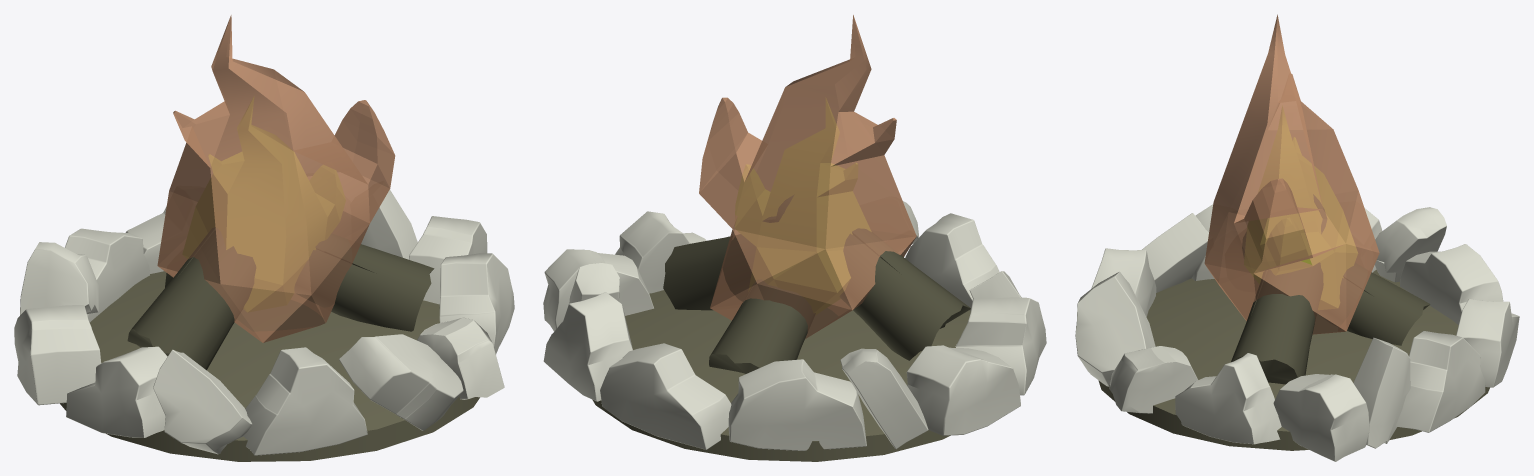
The model's file is PitFire.fbx.
3 renders of one model, left to right at view 1: azimuth 30°, elevation 25°; view 2: azimuth 150°, elevation 25°; view 3: azimuth 270°, elevation 25°, orthographic. The views are drawn at different scales.
Visible parts, largest first — view 1: Fire1, pasted__pCylinder5, Fire, pasted__Stump5, pasted__pCube12, pasted__Stump4, pasted__pCube21, pasted__pCube10, pasted__pCube11, pasted__pCube13, pasted__pCube18, pasted__pCube9 (+5 smaller); view 2: Fire1, Fire, pasted__pCylinder5, pasted__pCube6, pasted__pCube8, pasted__Stump5, pasted__pCube10, pasted__Stump3, pasted__pCube14, pasted__pCube11, pasted__Stump4, pasted__pCube12 (+5 smaller); view 3: Fire1, pasted__pCylinder5, Fire, pasted__Stump4, pasted__pCube18, pasted__pCube14, pasted__pCube16, pasted__pCube21, pasted__pCube6, pasted__Stump3, pasted__pCube20, pasted__pCube17 (+5 smaller).
Part boxes in pixels (left/top/right/bottom): Fire1: left=157, top=15, right=395, bottom=342; pasted__pCylinder5: left=60, top=271, right=479, bottom=461; Fire: left=183, top=97, right=345, bottom=311; pasted__Stump5: left=127, top=228, right=255, bottom=370; pasted__pCube12: left=244, top=347, right=367, bottom=455; pasted__Stump4: left=295, top=234, right=434, bottom=331; pasted__pCube21: left=339, top=334, right=463, bottom=430; pasted__pCube10: left=14, top=305, right=101, bottom=405; pasted__pCube11: left=66, top=346, right=167, bottom=437; pasted__pCube13: left=153, top=349, right=252, bottom=454; pasted__pCube18: left=439, top=253, right=514, bottom=354; pasted__pCube9: left=20, top=242, right=98, bottom=314; Fire1: left=699, top=15, right=916, bottom=338; Fire: left=735, top=99, right=870, bottom=314; pasted__pCylinder5: left=592, top=290, right=970, bottom=461; pasted__pCube6: left=728, top=359, right=866, bottom=450; pasted__pCube8: left=600, top=343, right=731, bottom=449; pasted__Stump5: left=764, top=195, right=970, bottom=360; pasted__pCube10: left=906, top=345, right=1020, bottom=435; pasted__Stump3: left=709, top=280, right=815, bottom=373; pasted__pCube14: left=543, top=292, right=632, bottom=401; pasted__pCube11: left=955, top=297, right=1046, bottom=395; pasted__Stump4: left=663, top=234, right=755, bottom=310; pasted__pCube12: left=905, top=213, right=999, bottom=310; Fire1: left=1204, top=14, right=1379, bottom=334; pasted__pCylinder5: left=1098, top=269, right=1490, bottom=450; Fire: left=1244, top=107, right=1357, bottom=309; pasted__Stump4: left=1231, top=263, right=1322, bottom=384; pasted__pCube18: left=1175, top=353, right=1281, bottom=444; pasted__pCube14: left=1395, top=331, right=1485, bottom=432; pasted__pCube16: left=1273, top=374, right=1369, bottom=461; pasted__pCube21: left=1075, top=271, right=1155, bottom=386; pasted__pCube6: left=1400, top=244, right=1503, bottom=324; pasted__Stump3: left=1317, top=263, right=1430, bottom=345; pasted__pCube20: left=1109, top=346, right=1197, bottom=413; pasted__pCube17: left=1353, top=337, right=1410, bottom=448.
Bounding box in the file's own units: 2.1 × 1.58 × 1.92.
